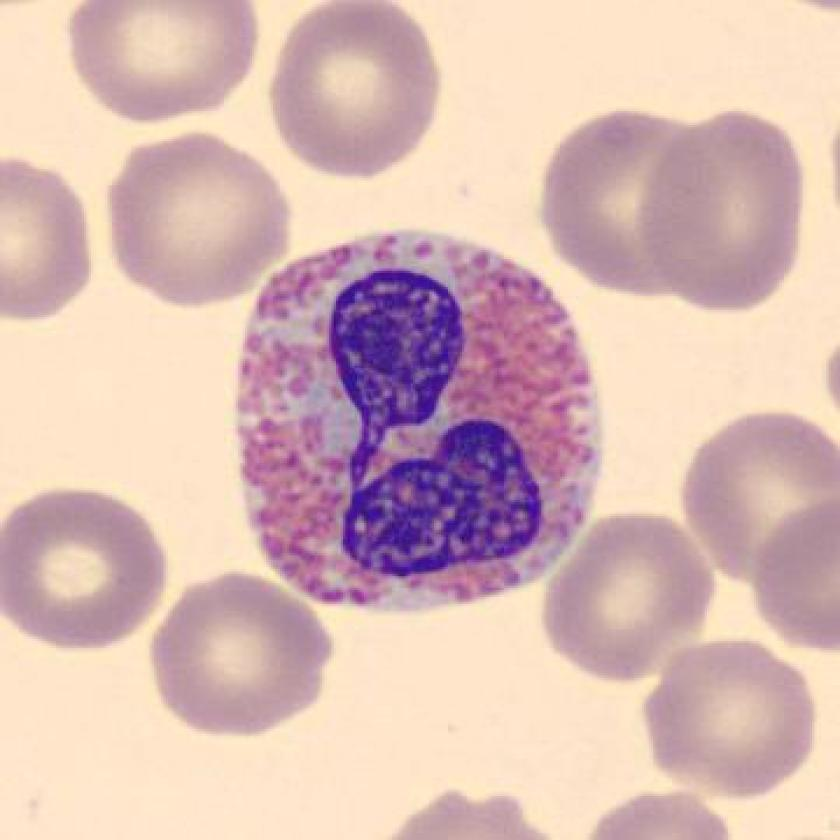eosinophil: (216, 216, 617, 628)
